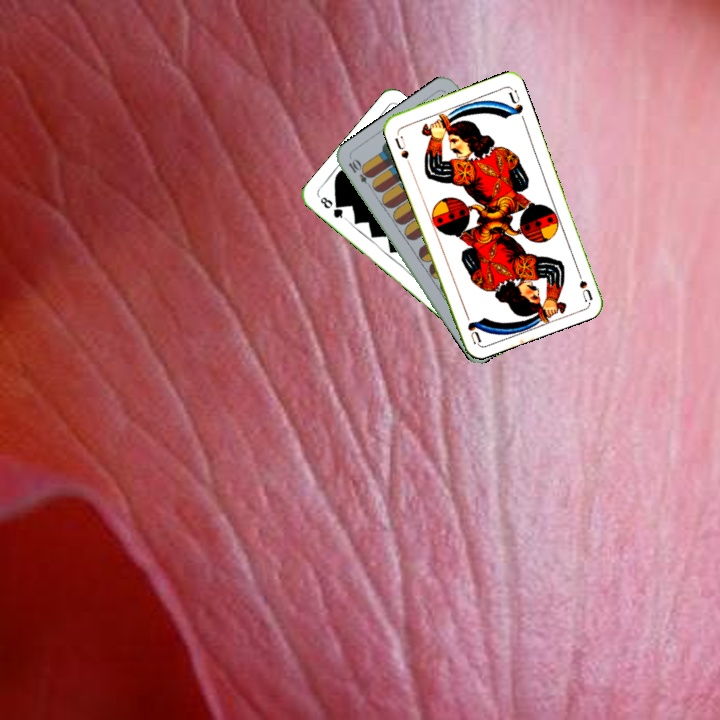E10: (344, 155, 376, 192)
G8: (316, 193, 349, 222)
SU: (572, 263, 595, 303), (391, 132, 411, 161)
